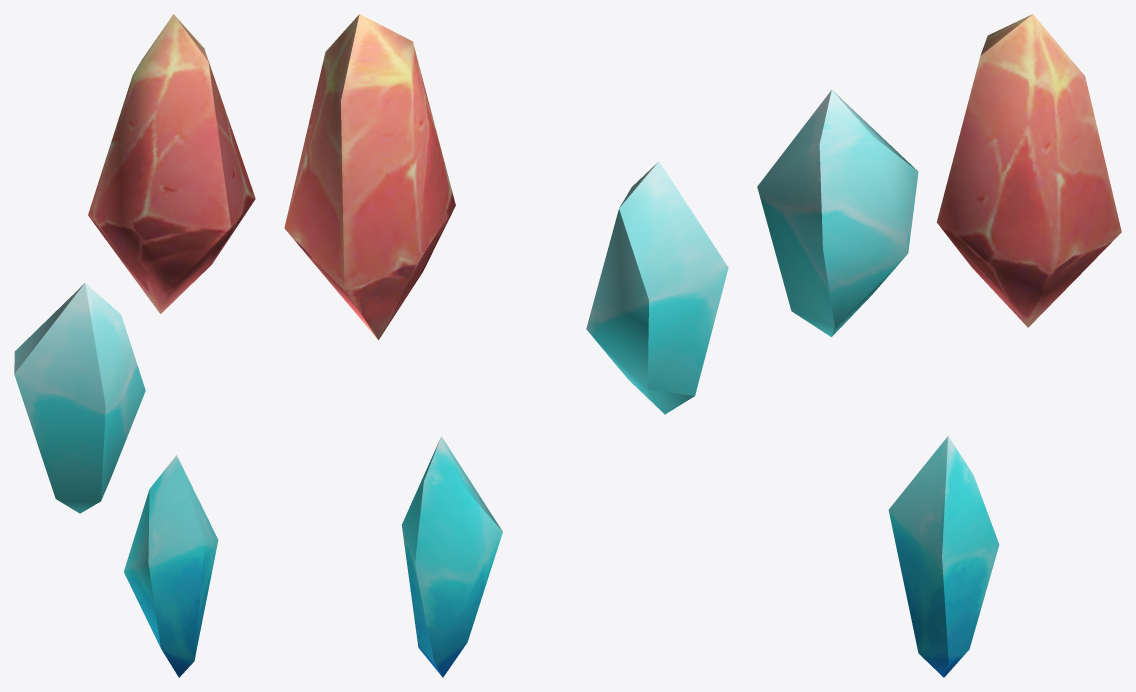
Rendered from crystalparts.FBX.
3 views of the same model, side by side, from view 1: azimuth 30°, elevation 25°; view 2: azimuth 150°, elevation 25°; view 3: azimuth 270°, elevation 25° (orthographic). The views are drawn at different scales.
Parts seen in each view (by area): view 1: 组001; view 2: 组001; view 3: 组001.
Boxes of the visible parts, x1,y1,x2,y2 form: 组001: (14,14,255,677); 组001: (284,14,728,677); 组001: (757,14,1121,677).
Bounding box in the file's own units: 2.49 × 4.77 × 2.31.
Materials: 1 (1 with a texture image).
